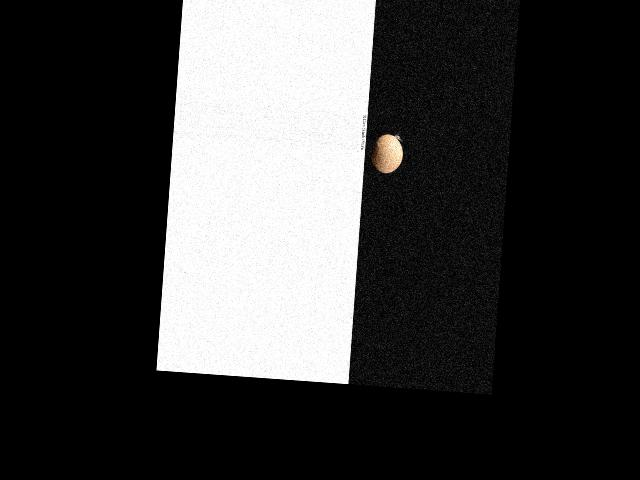egg: (370, 133, 403, 174)
